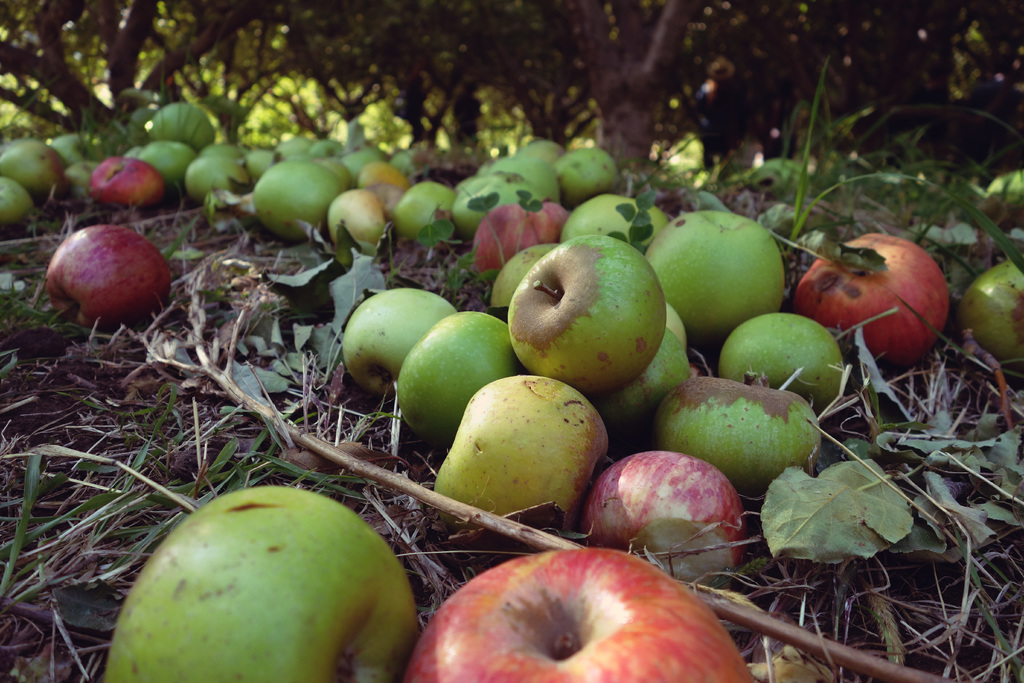Apple: (0, 98, 1023, 568), (106, 481, 420, 682), (405, 543, 755, 682), (510, 226, 675, 390)
